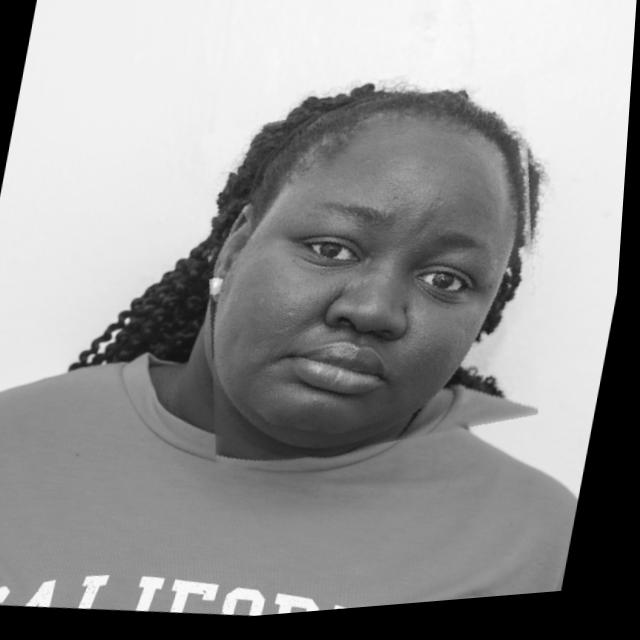sad: (164, 61, 585, 502)
